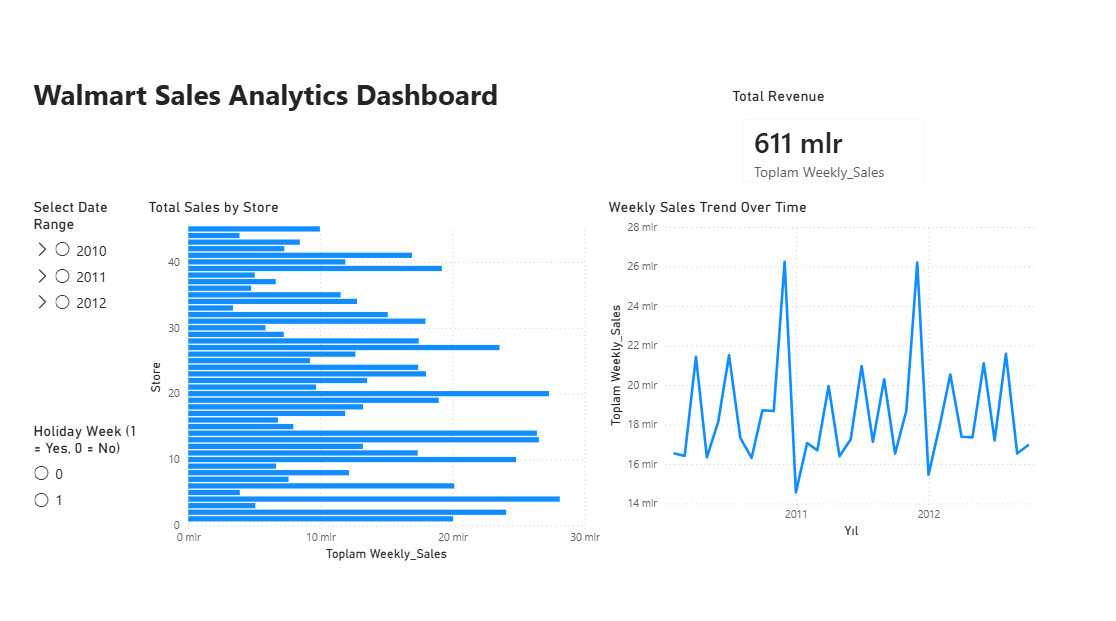

Layout of this report page (visuals, bound fields, positions):
{"tool":"powerbi","page":{"name":"1. sayfa","canvas":[1280,720],"ordinal":0},"visuals":[{"type":"cardVisual","title":"Total Revenue","fields":{"Data":["Sum(Walmart.Weekly_Sales)"]},"box":[832.9,102.9,242.9,127.1],"z":0},{"type":"lineChart","title":"Weekly Sales Trend Over Time","fields":{"Category":["Walmart.Date.Varyasyon.Tarih Hiyerarşisi.Yıl","Walmart.Date.Varyasyon.Tarih Hiyerarşisi.Çeyrek","Walmart.Date.Varyasyon.Tarih Hiyerarşisi.Ay","Walmart.Date.Varyasyon.Tarih Hiyerarşisi.Gün"],"Y":["Sum(Walmart.Weekly_Sales)"]},"box":[691.4,230,502.9,392.9],"z":1},{"type":"clusteredBarChart","title":"Total Sales by Store","fields":{"Category":["Walmart.Store"],"Y":["Sum(Walmart.Weekly_Sales)"]},"box":[165.7,230,525.7,420],"z":2},{"type":"listSlicer","title":"Holiday Week (1 = Yes, 0 = No)","fields":{"Values":["Walmart.Holiday_Flag"]},"box":[34.3,485.7,131.4,150],"z":3},{"type":"textbox","box":[34.3,84.3,605.7,72.9],"z":4},{"type":"listSlicer","title":"Select Date Range","fields":{"Values":["Walmart.Date.Varyasyon.Tarih Hiyerarşisi.Yıl","Walmart.Date.Varyasyon.Tarih Hiyerarşisi.Çeyrek","Walmart.Date.Varyasyon.Tarih Hiyerarşisi.Ay","Walmart.Date.Varyasyon.Tarih Hiyerarşisi.Gün"]},"box":[34.3,230,131.4,235.7],"z":5}]}

Visuals, with their boxes in screenshot pixels (x1, y1, x2, y2), scaled from the page's 1280x720 canvas onto the 1116x621 screenshot:
"Total Revenue" cardVisual: BBox(726, 89, 938, 198)
"Weekly Sales Trend Over Time" lineChart: BBox(603, 198, 1041, 537)
"Total Sales by Store" clusteredBarChart: BBox(144, 198, 603, 561)
"Holiday Week (1 = Yes, 0 = No)" listSlicer: BBox(30, 419, 144, 548)
textbox: BBox(30, 73, 558, 136)
"Select Date Range" listSlicer: BBox(30, 198, 144, 402)
